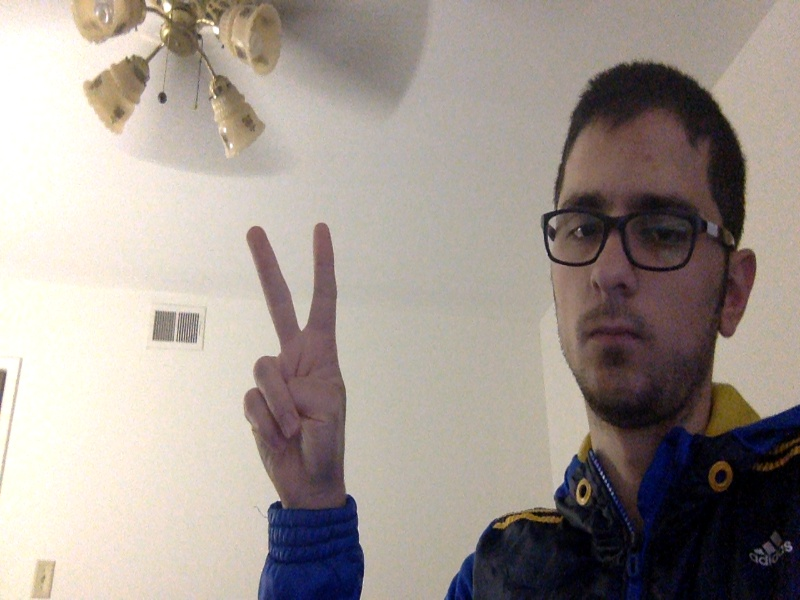2-hand: (237, 226, 347, 516)
